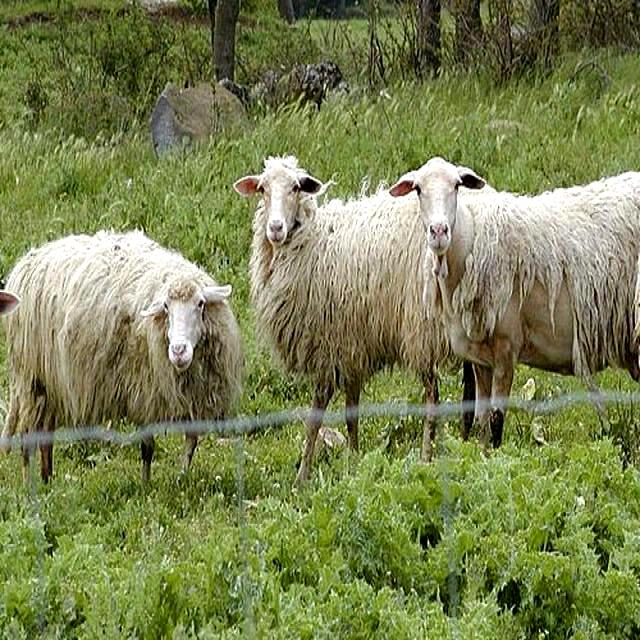sheep: (393, 160, 640, 445), (234, 157, 440, 487), (2, 233, 245, 493)
